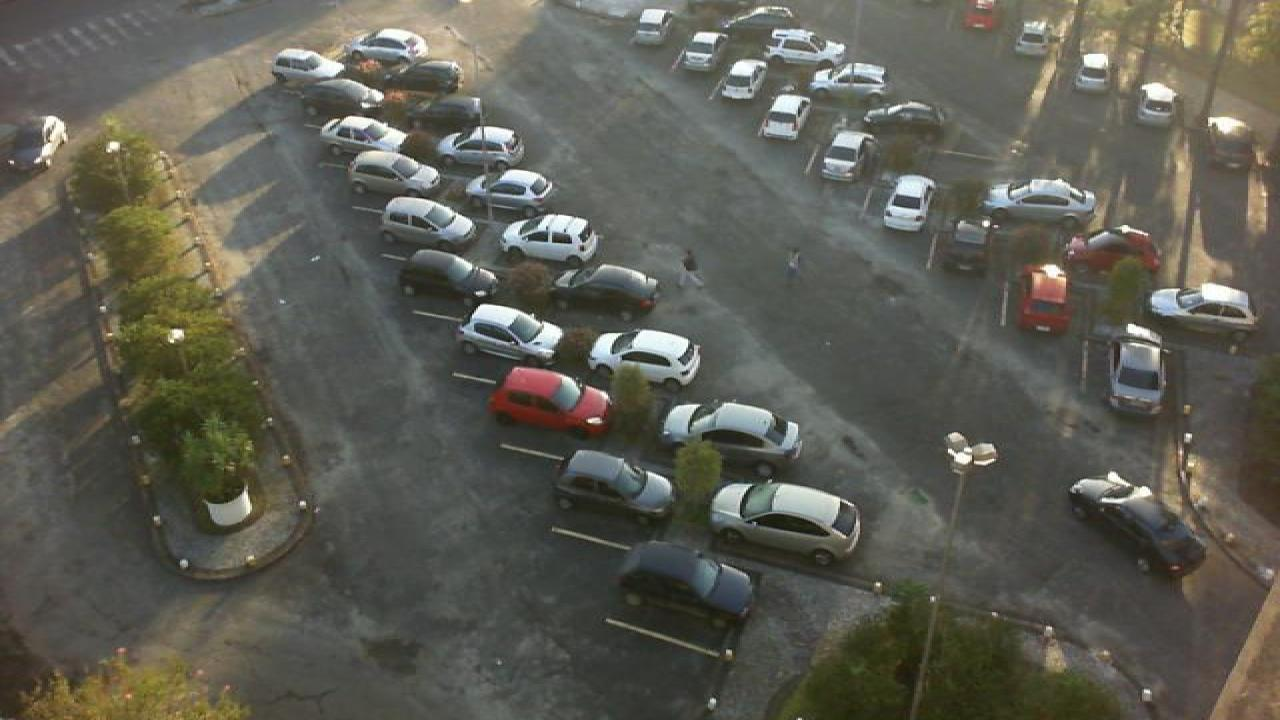Car: (1066, 472, 1210, 579), (708, 480, 864, 568), (620, 541, 756, 637), (660, 399, 804, 476), (552, 449, 680, 525), (484, 366, 614, 440), (454, 302, 568, 364), (586, 329, 704, 388), (1144, 281, 1260, 341), (1104, 324, 1172, 418), (980, 176, 1098, 229), (554, 262, 662, 318), (398, 249, 500, 308), (378, 196, 480, 252), (1064, 223, 1162, 278), (496, 214, 602, 264), (346, 150, 446, 200), (460, 169, 558, 218), (432, 125, 526, 173), (1014, 264, 1074, 336), (0, 114, 70, 171), (318, 114, 408, 158), (944, 214, 1004, 274), (880, 174, 938, 234), (266, 46, 350, 86), (864, 99, 948, 139), (408, 93, 486, 135), (760, 28, 846, 66), (298, 78, 386, 114), (820, 130, 878, 184), (348, 27, 430, 65), (1206, 115, 1262, 169), (810, 62, 890, 97), (758, 92, 810, 142), (720, 5, 798, 34), (716, 57, 766, 102), (1132, 81, 1178, 126), (676, 32, 724, 72), (630, 8, 676, 45), (1072, 52, 1114, 92), (1012, 18, 1054, 56), (960, 0, 998, 30)
